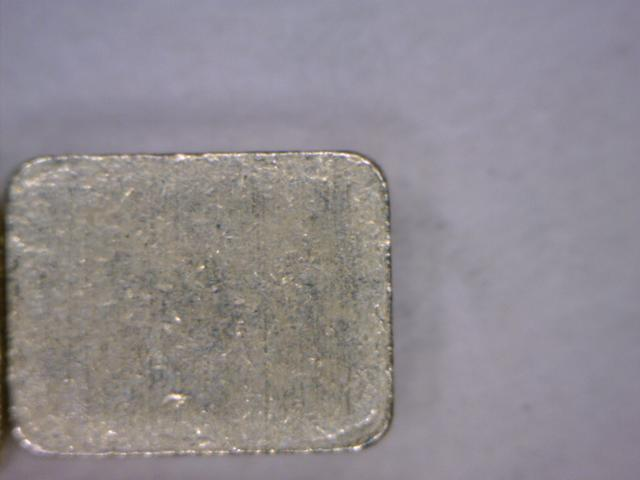ok: (1, 145, 411, 471)
